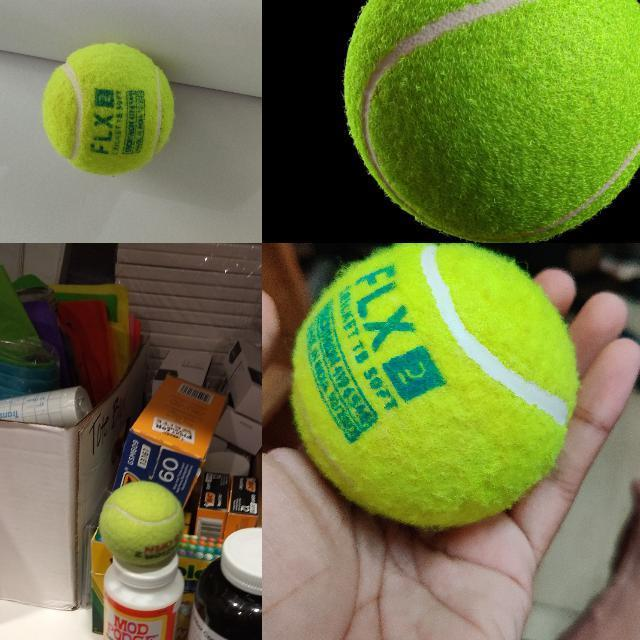tennis-ball: (292, 243, 577, 526), (341, 0, 639, 242), (42, 42, 175, 175), (99, 479, 186, 565)
